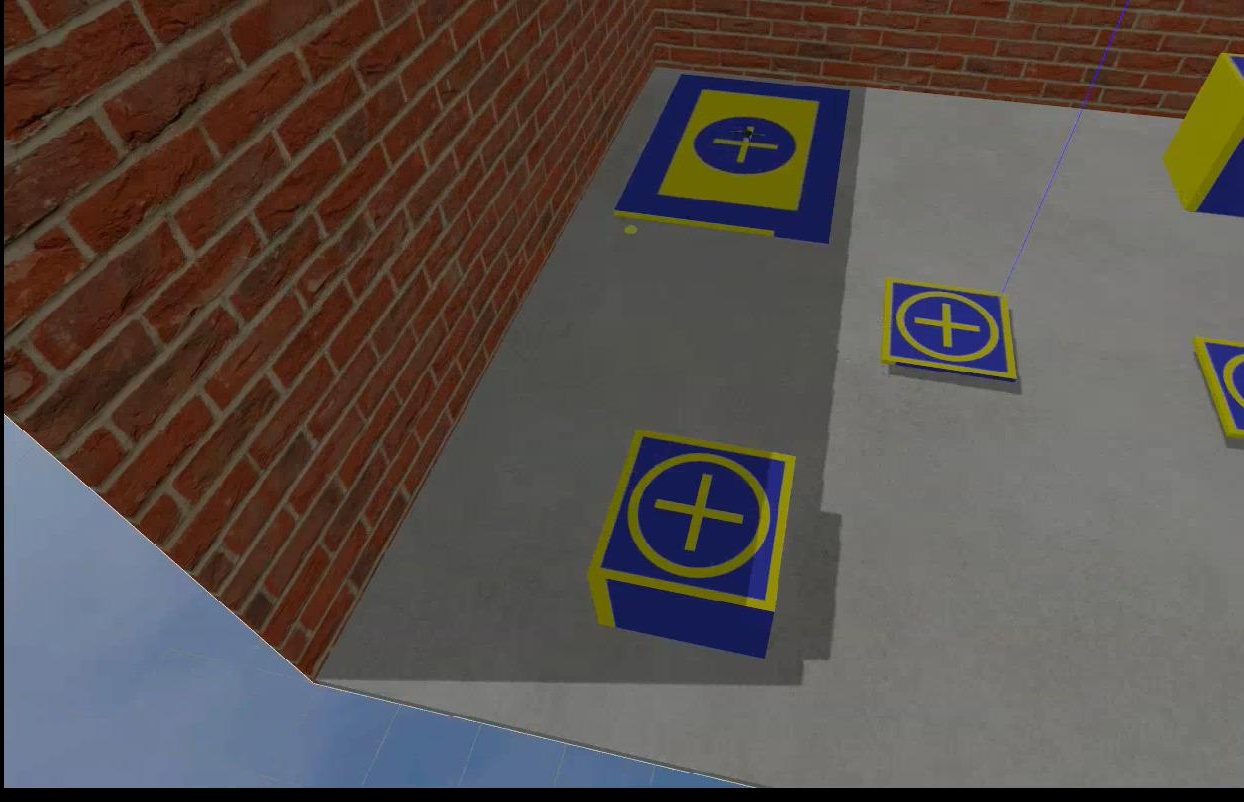large_base: (612, 69, 852, 247)
small_base: (582, 428, 795, 613), (879, 279, 1015, 383), (1194, 337, 1242, 449)
